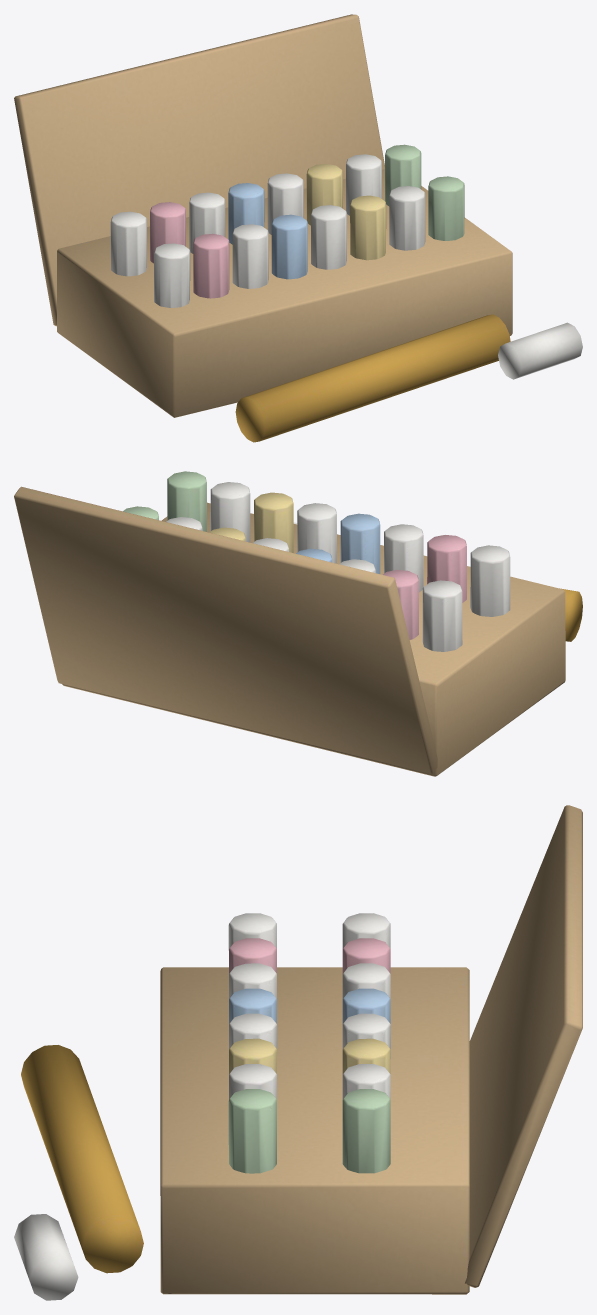
Rendered from keepsake-chalk.glb.
3 views of the same model, one above another, from view 1: azimuth 30°, elevation 25°; view 2: azimuth 150°, elevation 25°; view 3: azimuth 270°, elevation 25° (orthographic). The views are drawn at different scales.
Parts seen in each view (by area): view 1: keepsake-chalk; view 2: keepsake-chalk; view 3: keepsake-chalk.
Boxes of the visible parts, x1,y1,x2,y2 form: keepsake-chalk: (14, 14, 582, 442); keepsake-chalk: (14, 471, 582, 776); keepsake-chalk: (14, 805, 582, 1300).
Bounding box in the file's own units: 0.1 × 0.0554 × 0.1043.
1 material, 1 textured.
